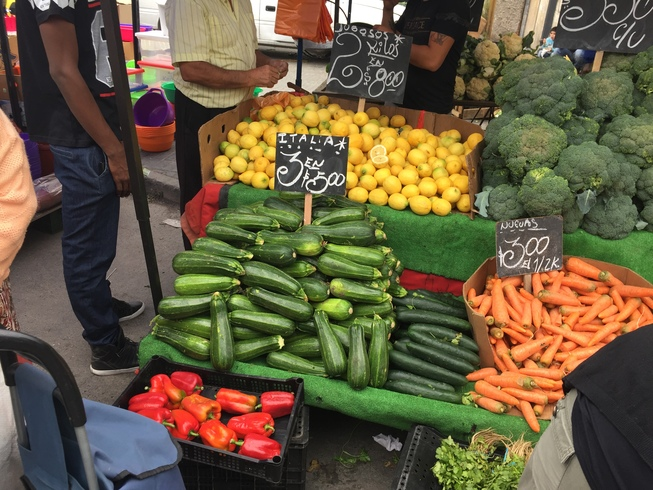precio: (324, 18, 416, 106), (273, 129, 358, 206), (491, 209, 570, 279)
